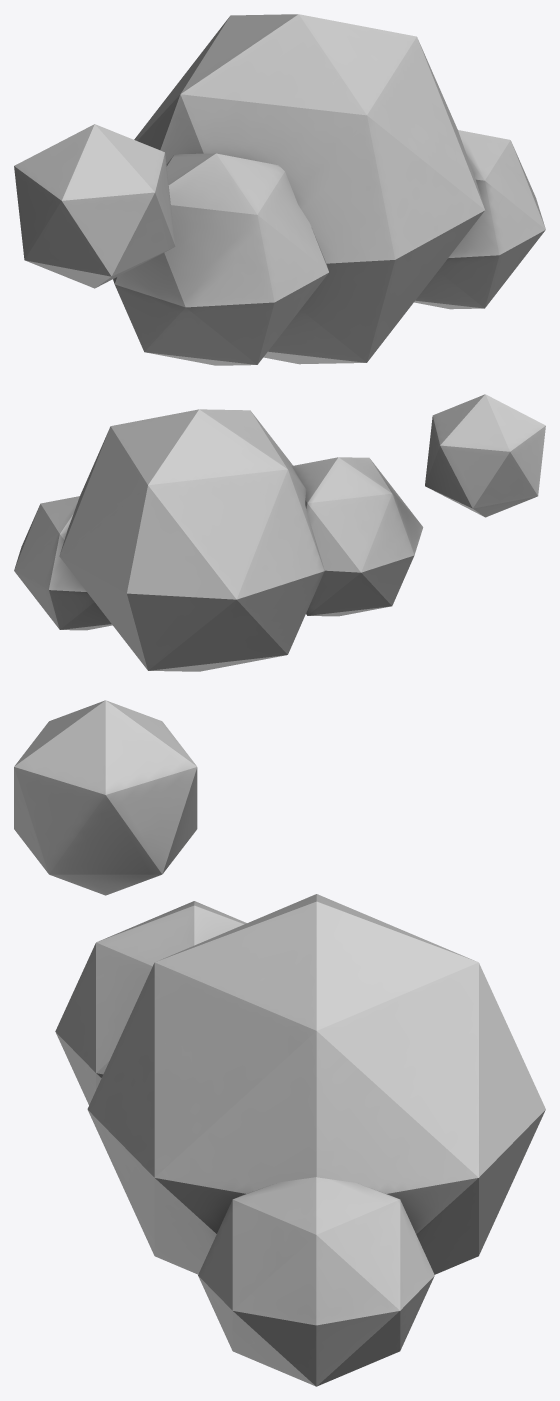
Rendered from Cloud_3.fbx.
The picture shows the model from 3 angles, top to bottom: view 1: azimuth 30°, elevation 25°; view 2: azimuth 150°, elevation 25°; view 3: azimuth 270°, elevation 25°; orthographic projection. The views are drawn at different scales.
Visible parts, largest first — view 1: Cloud_3; view 2: Cloud_3; view 3: Cloud_3.
Part boxes in pixels (x1,y1,x2,y2): Cloud_3: (14, 14, 545, 365); Cloud_3: (14, 394, 545, 671); Cloud_3: (14, 700, 545, 1386).
Size of the model in its own units: 80.27 by 48.13 by 51.89.
